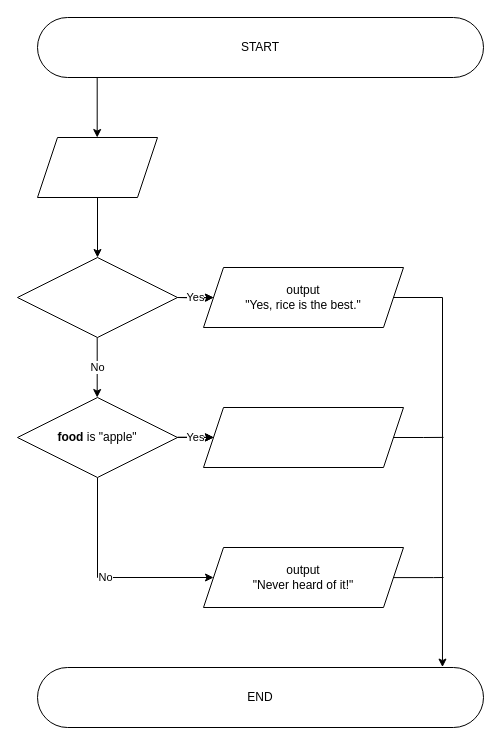
This 501x745 diagram has some shape labels left out. The shapes that lost their labels are listed below. From the top down, each one's box as (x1, y1, x2, y2) in pixels, then its label:
(36, 136, 158, 198): Input food
(16, 256, 178, 338): food is "rice"
(202, 406, 404, 468): output "Apples aren't my cup of rice."
